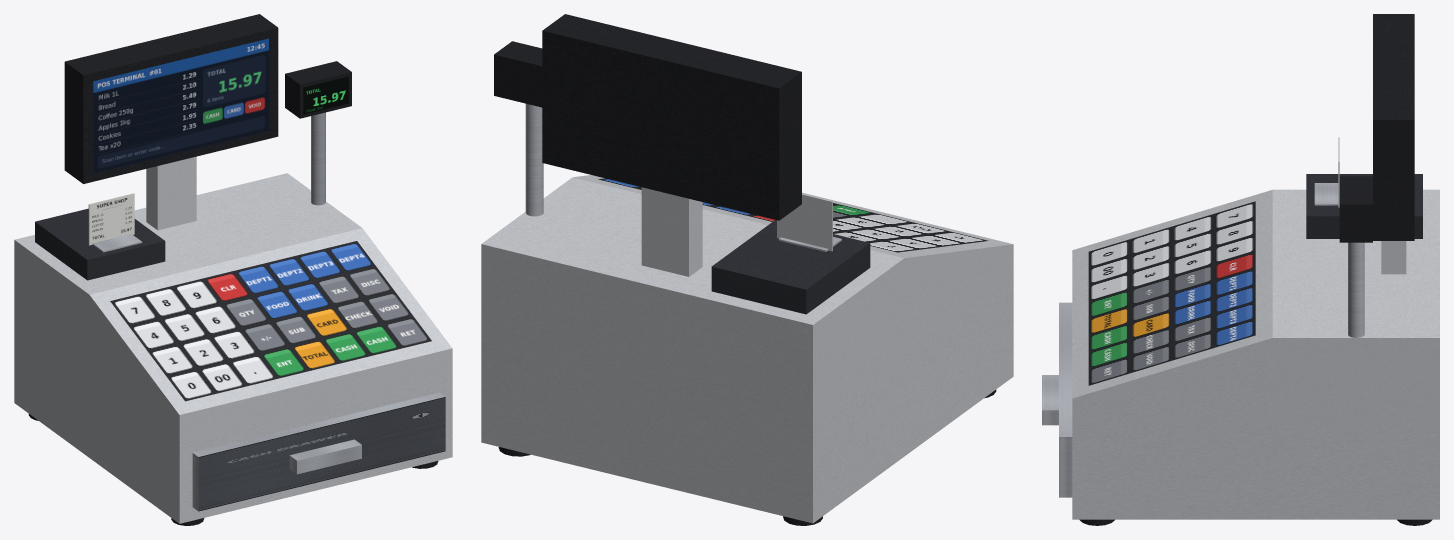
Rendered from cash_register.obj.
3 views of the same model, side by side, from view 1: azimuth 30°, elevation 25°; view 2: azimuth 150°, elevation 25°; view 3: azimuth 270°, elevation 25° (orthographic). The views are drawn at different scales.
Parts seen in each view (by area): view 1: body, keys, screen_main, dark, drawer, metal, printer, receipt, screen_cust; view 2: body, dark, printer, keys, metal; view 3: body, keys, dark, metal, printer.
Boxes of the visible parts, x1,y1,x2,y2 form: body: (14,156,452,523); keys: (110,241,431,401); screen_main: (93,38,268,173); dark: (28,14,438,525); drawer: (198,397,445,511); metal: (92,112,445,511); printer: (35,208,165,280); receipt: (89,193,134,245); screen_cust: (303,76,348,114); body: (481,175,1013,523); dark: (494,14,996,525); printer: (711,220,870,314); keys: (598,178,988,252); metal: (525,103,841,251); body: (1072,137,1439,519); keys: (1088,201,1255,385); dark: (1079,14,1432,525); metal: (1042,183,1364,497); printer: (1306,174,1422,238).
Size of the model in its own units: 0.45 by 0.512 by 0.476.
9 materials, 9 textured.
